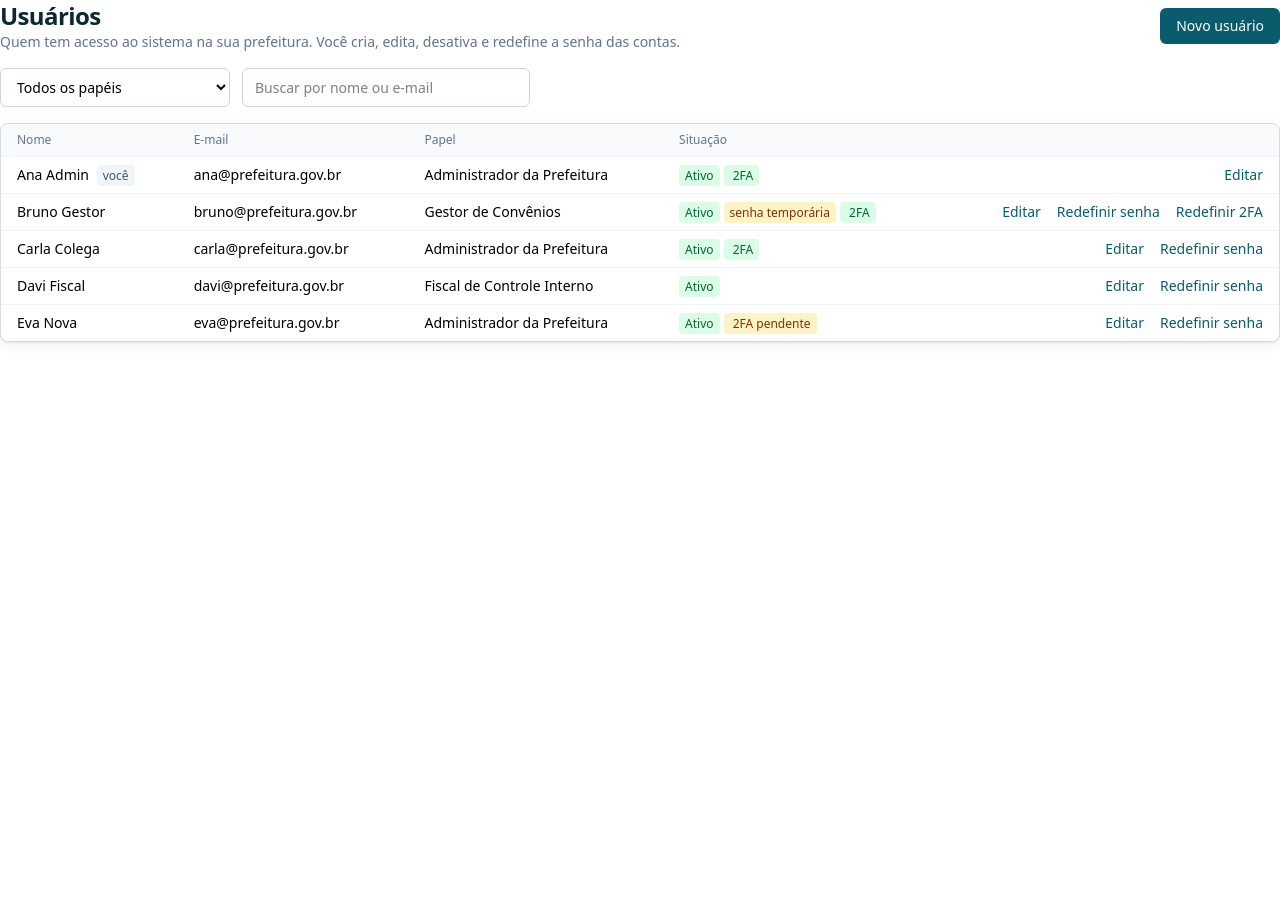
Test case: tela de usuários › 2FA › pede a senha de quem redefine, redefine e avisa
The image size is (1280, 900).
Click the button "Redefinir 2FA" at x=1219, y=212, box [1176,202,1263,222]
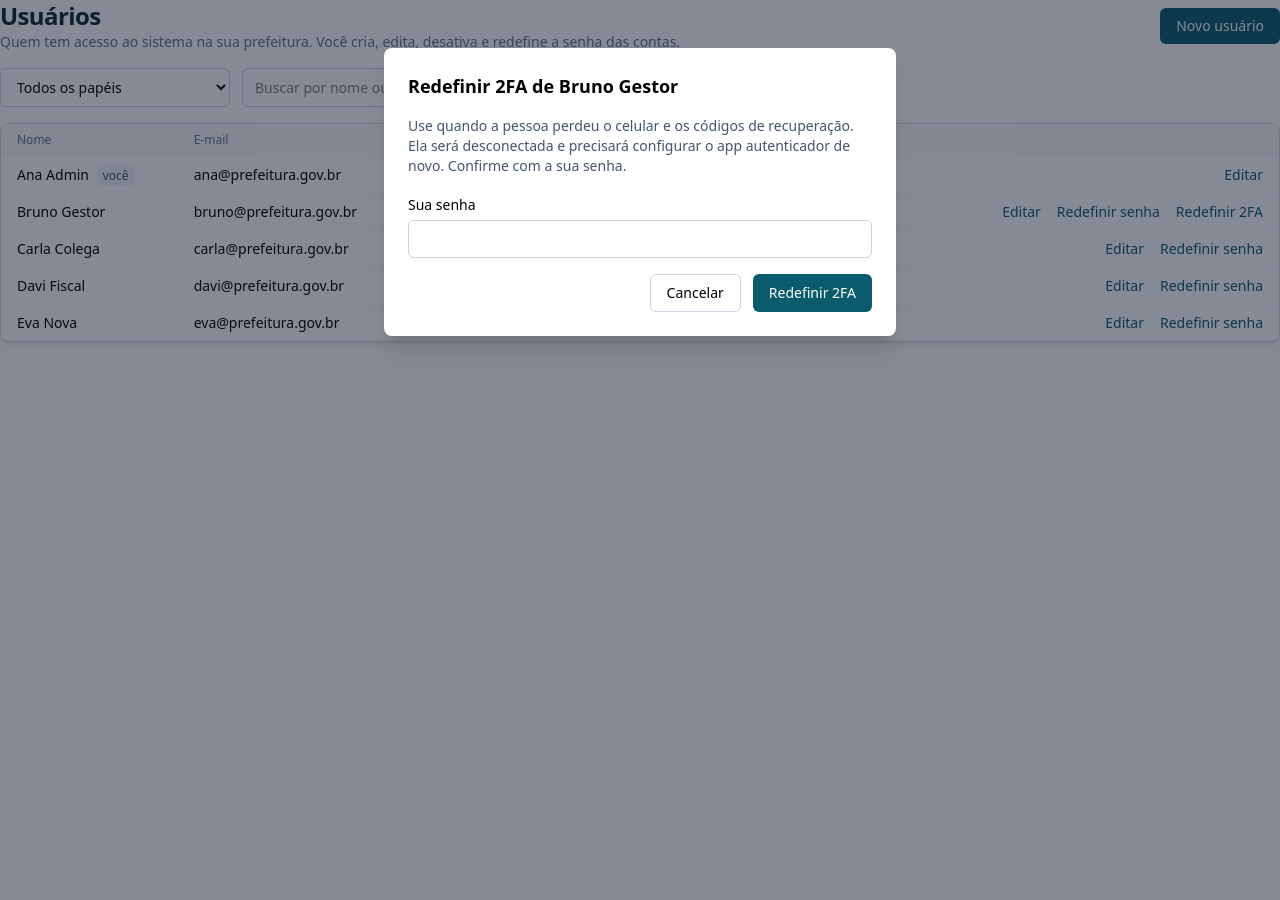
Expected: the element that starts with "Redefinir 2FA de Bruno Gestor" is shown, [408,74,678,98]
Type "MinhaSenha123" into the password field with id "confirmar-senha" at x=640, y=239, box [408,220,872,258]
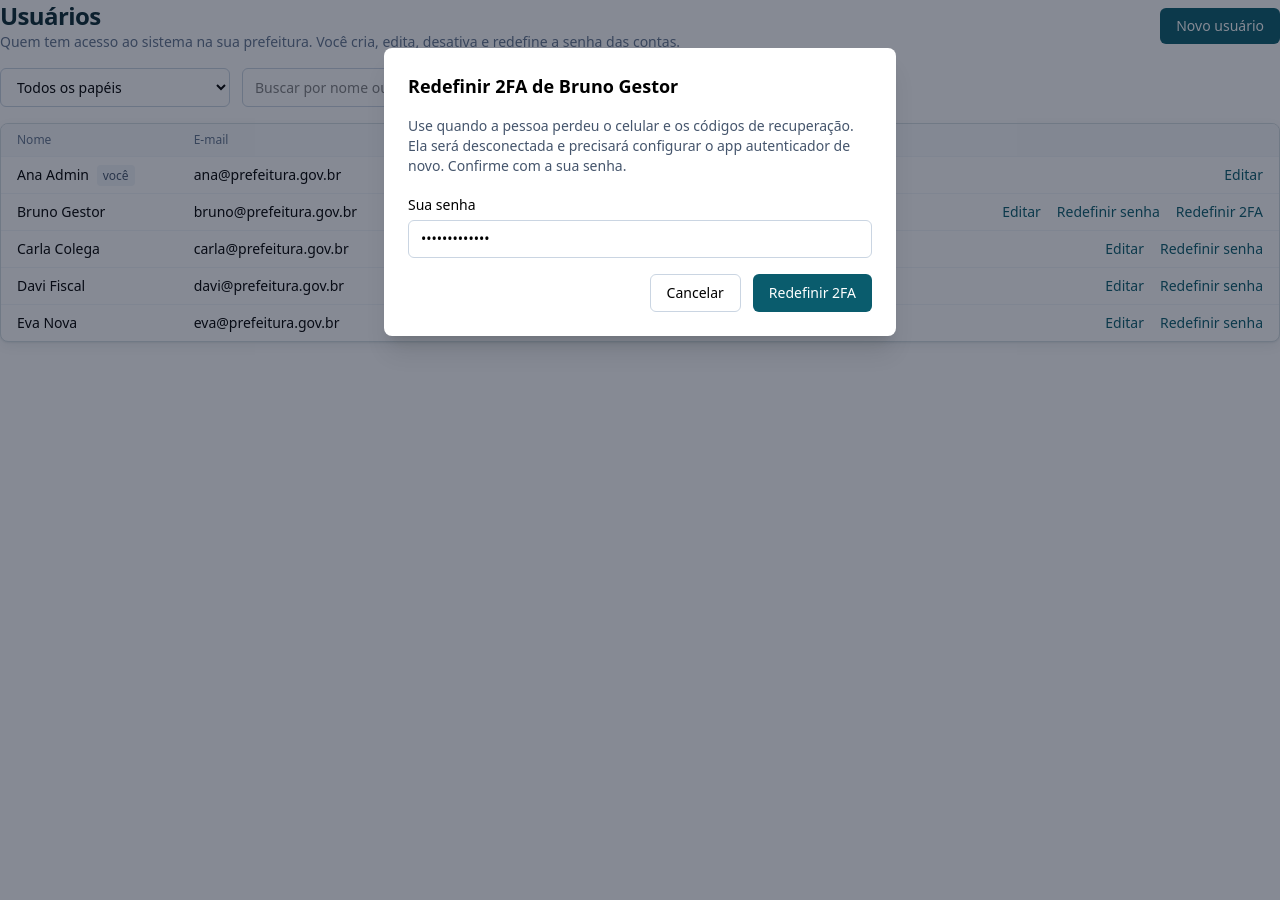
Submit the form, box [408,116,872,312]
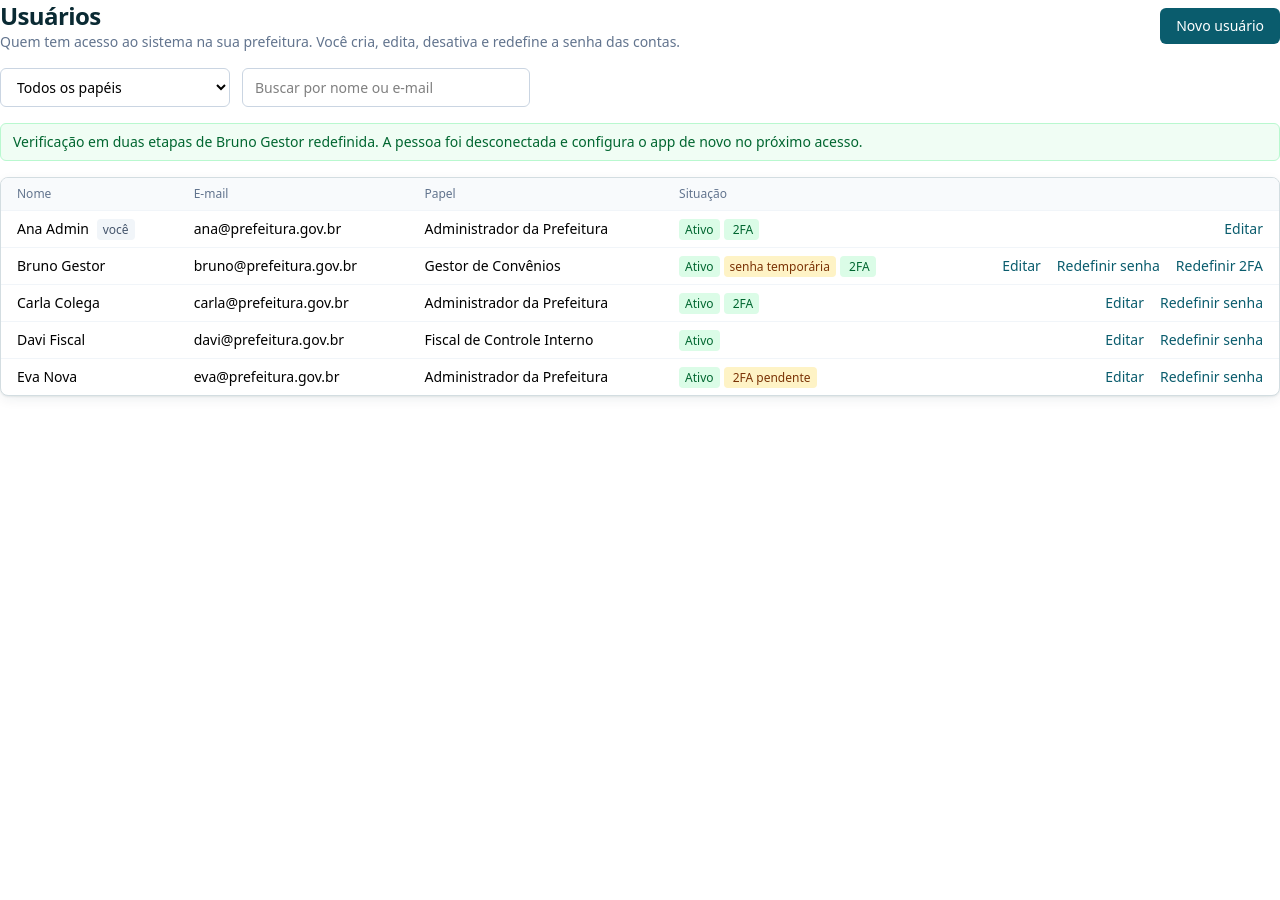
Expected: the message shows "Bruno Gestor redefinida", [13,132,863,151]
